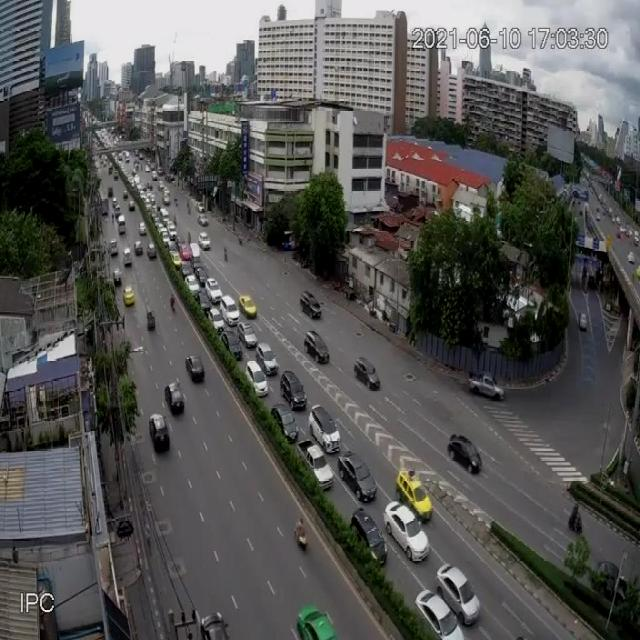Car: (437, 556, 480, 625), (383, 500, 429, 562), (414, 587, 464, 640), (338, 448, 378, 503), (296, 438, 335, 492), (351, 506, 387, 564), (308, 404, 340, 454), (296, 602, 338, 640), (448, 432, 482, 475), (269, 403, 299, 443), (468, 370, 506, 400), (280, 367, 306, 410), (148, 412, 171, 452), (200, 610, 230, 640), (245, 361, 270, 397), (354, 356, 380, 390), (304, 330, 330, 362), (163, 382, 187, 414), (257, 343, 280, 375), (299, 290, 323, 320), (185, 354, 206, 384), (237, 318, 257, 349), (220, 331, 242, 359), (204, 274, 223, 304), (208, 307, 225, 335), (238, 295, 258, 318), (184, 274, 200, 296), (122, 286, 136, 306), (197, 233, 212, 250), (197, 212, 209, 228), (578, 312, 588, 331), (172, 253, 183, 268), (146, 243, 156, 259), (134, 240, 144, 256), (123, 248, 131, 267), (110, 240, 118, 256), (139, 222, 147, 235), (169, 225, 176, 239), (128, 201, 136, 212)
Cycle: (293, 526, 308, 549)
Van: (220, 291, 240, 325), (116, 215, 128, 235)
